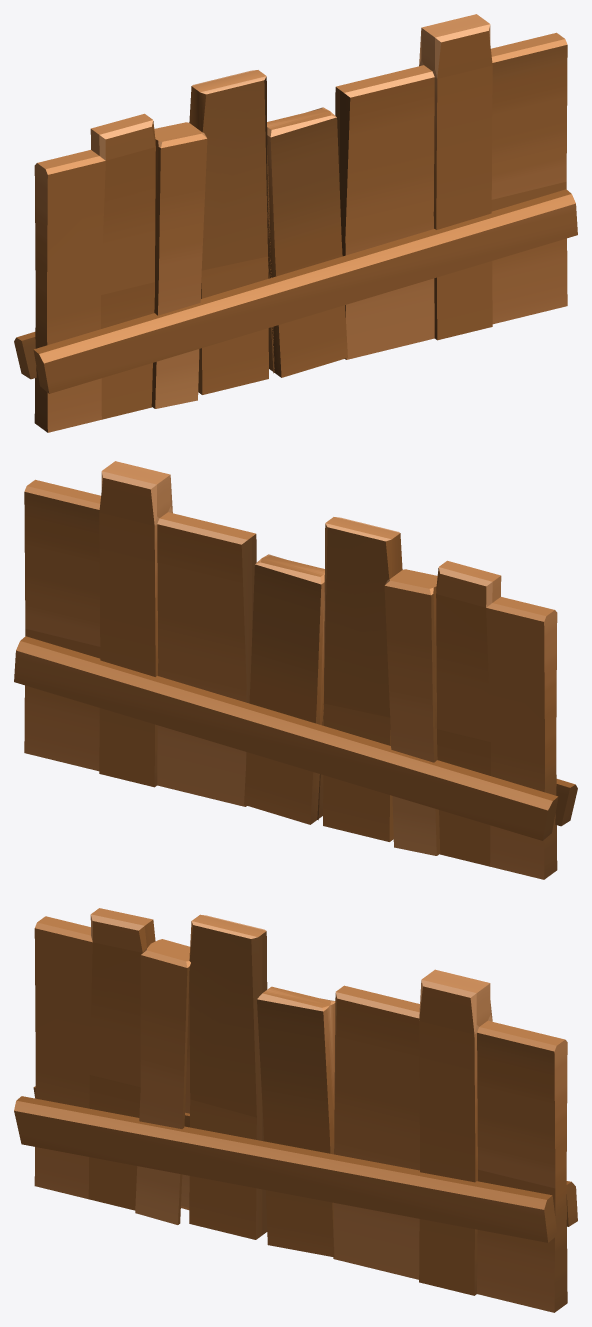
Rendered from camp-fence.obj.
3 views of the same model, one above another, from view 1: azimuth 30°, elevation 25°; view 2: azimuth 150°, elevation 25°; view 3: azimuth 330°, elevation 25° (orthographic).
Visible parts, largest first — view 1: camp-fence; view 2: camp-fence; view 3: camp-fence.
Part boxes in pixels (x1=…): camp-fence: x1=14, y1=14, x2=577, y2=432; camp-fence: x1=14, y1=461, x2=577, y2=879; camp-fence: x1=14, y1=908, x2=577, y2=1312.
Bounding box in the file's own units: 27.19 × 14.7 × 2.8.
Materials: 1 (1 with a texture image).
